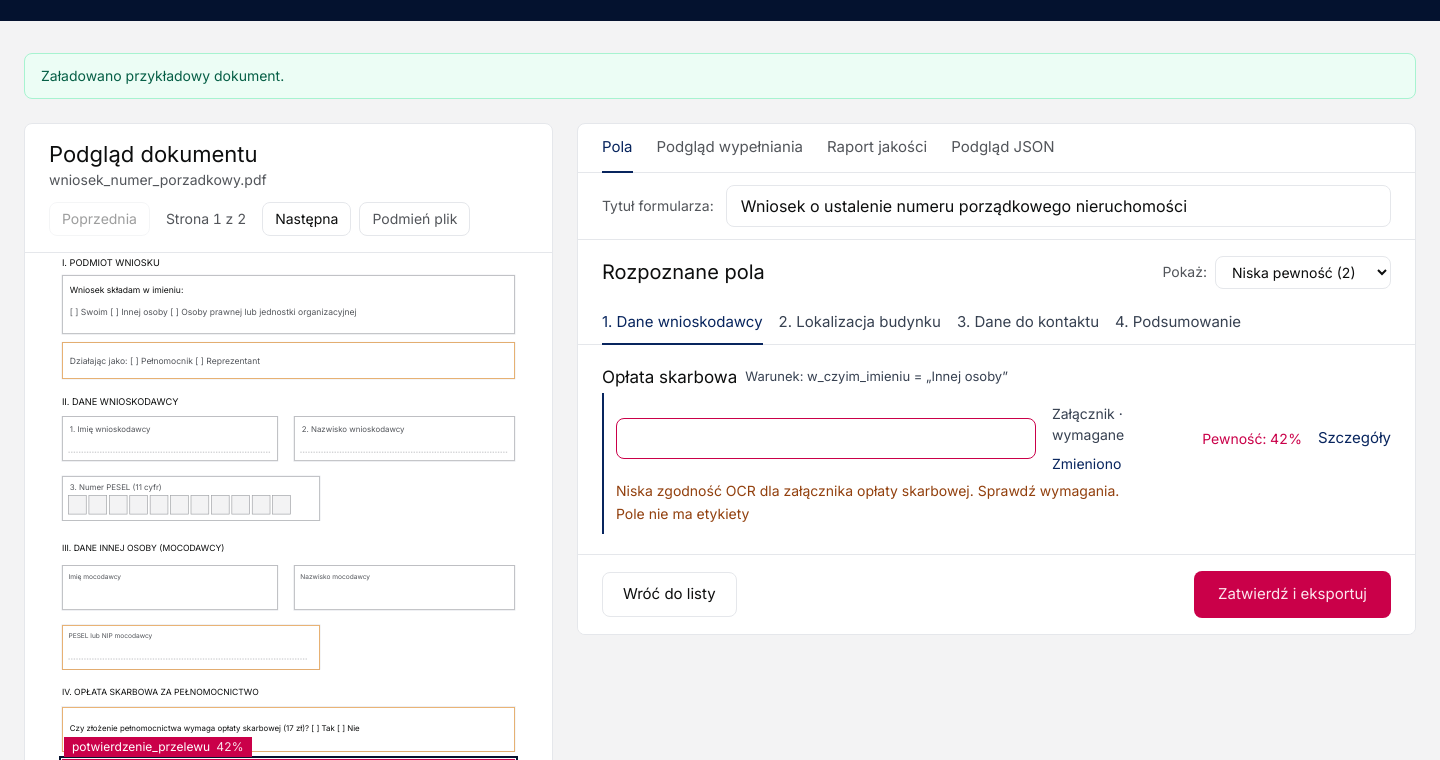
Test: Cyfryzacja formularzy — ścieżka robocza urzędnika › otwiera weryfikację, filtruje niską pewność, podświetla bbox, edytuje pole i zatwierdza
The width and height of the screenshot is (1440, 760).
Earlier steps of the test are not shown.
(page scrolled)
Step 1. Type "Dowód opłaty skarbowej 17 zł" into the field named "Etykieta pola potwierdzenie_przelewu" → (826, 439), box [616,418,1036,459]
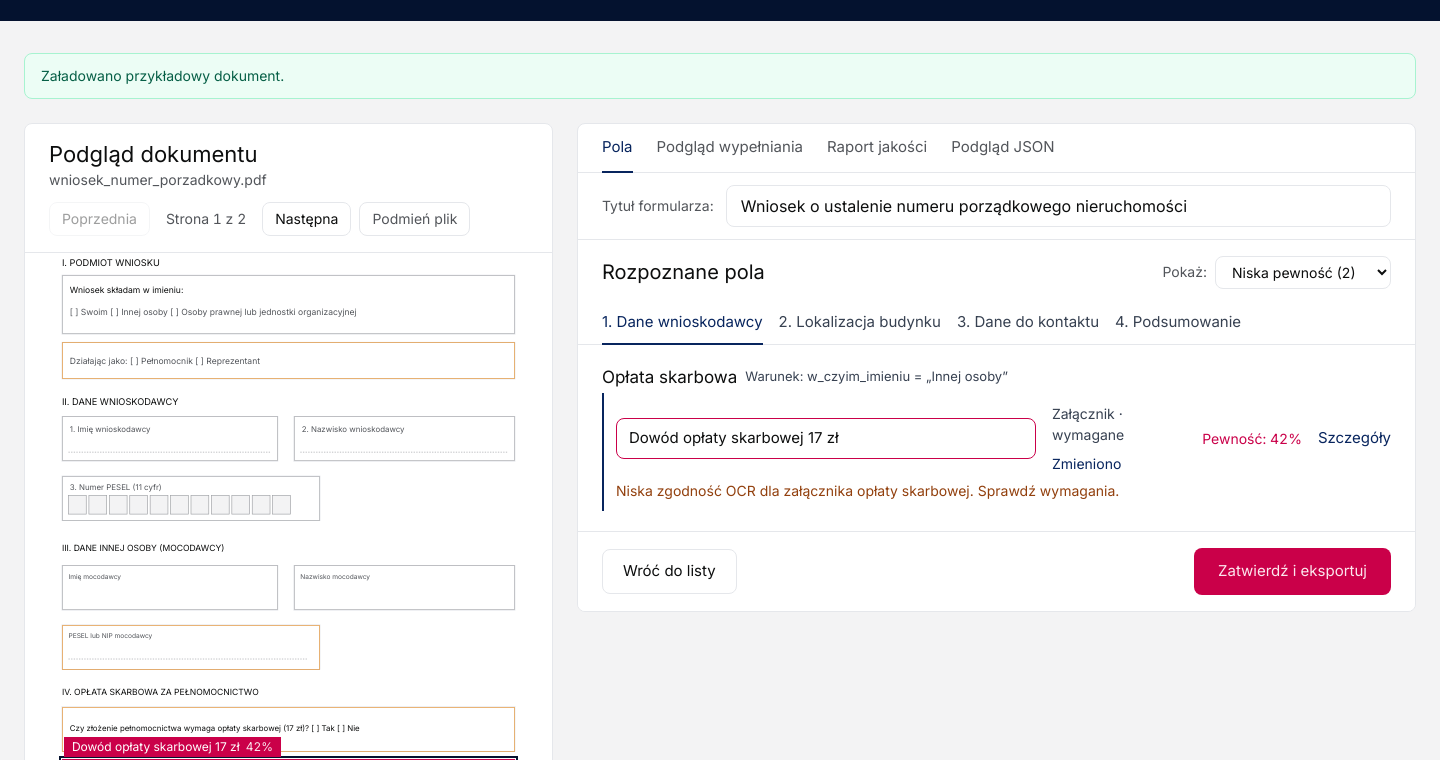
Zatwierdzenie i eksport
Step 2. Click the button with test id "approve-form-button" → (1292, 571), box [1194,548,1391,594]
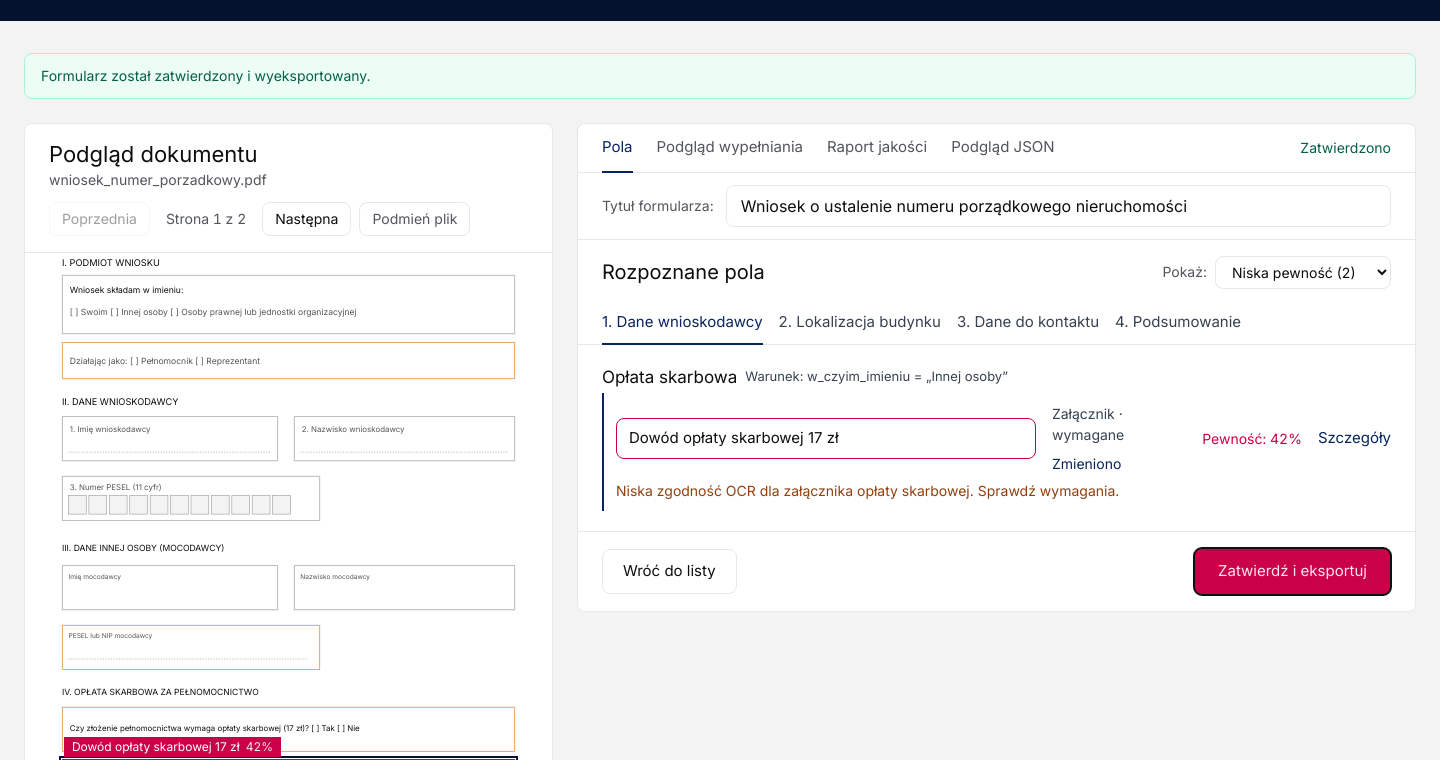
Expected: the text "Zatwierdzono" is shown, [1300,138,1391,158]
Weryfikacja zaktualizowanej etykiety w podglądzie JSON
Step 3. Click the tab "Podgląd JSON" → (1003, 148), box [951,124,1054,172]
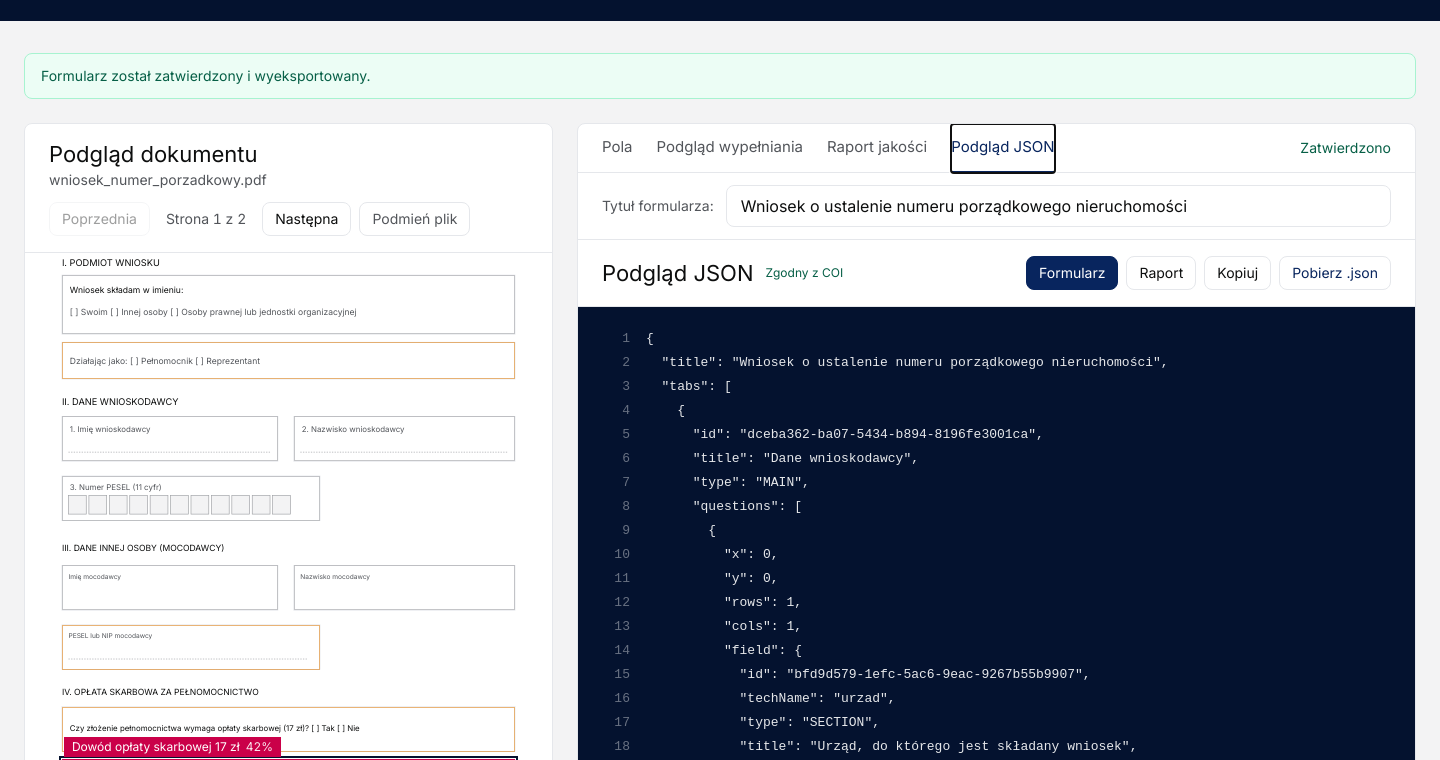
Podgląd wypełniania — dynamiczna widoczność JSONata SHOW + walidacja Zod
Step 4. Click the tab "Podgląd wypełniania" → (730, 148), box [656,124,803,172]
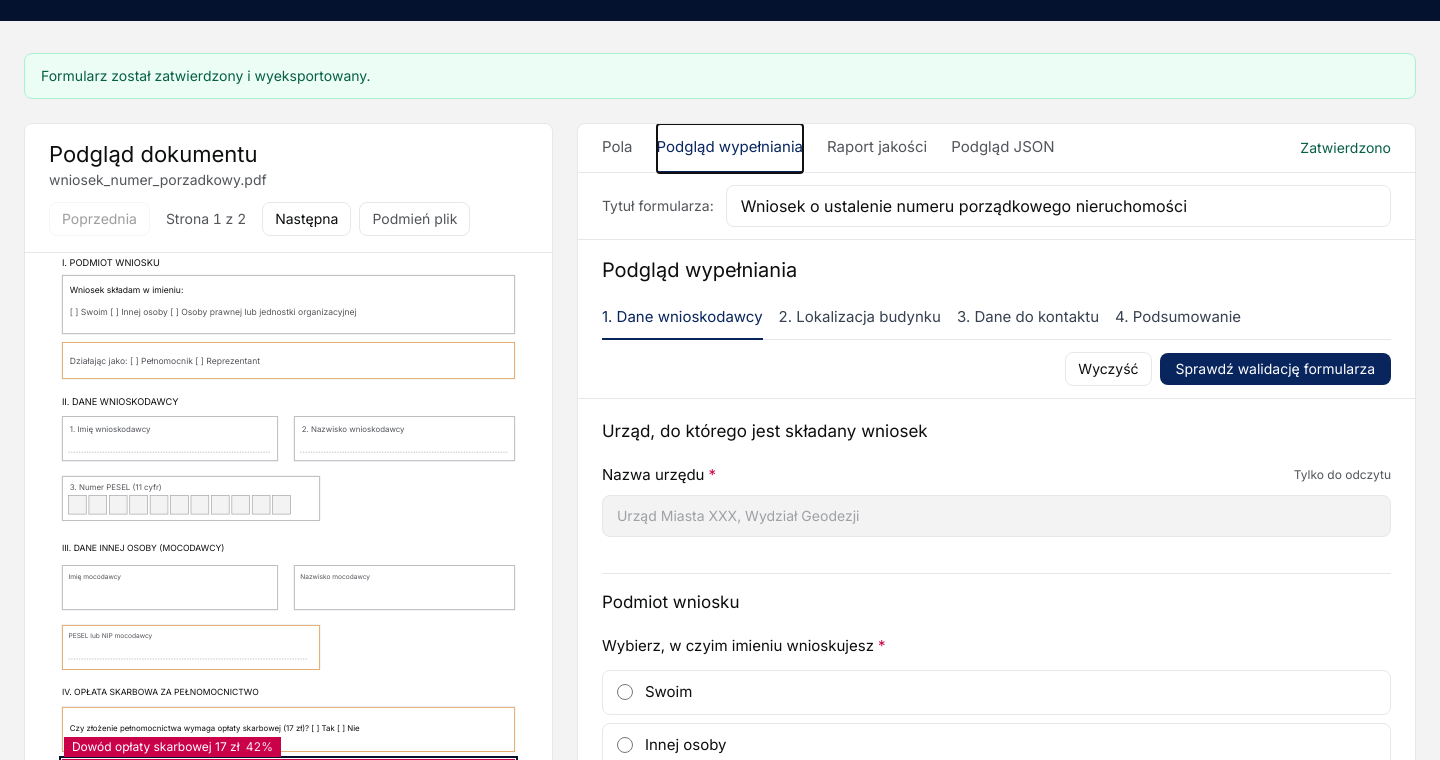
Step 5. Click the radio button labelled "Innej osoby" → (625, 745), box [617,737,633,753]
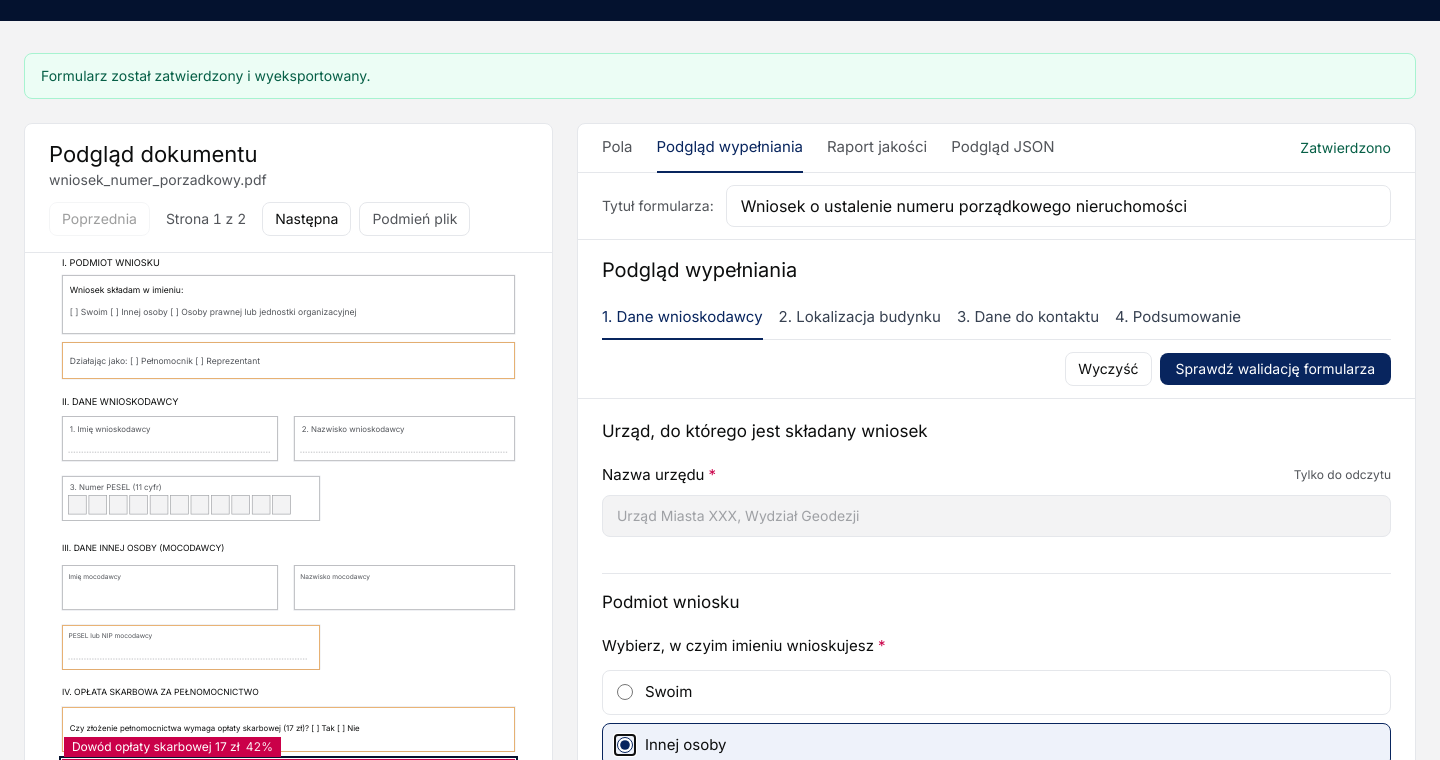
Step 6. Click the button "Sprawdź walidację formularza" → (1275, 369), box [1160,353,1391,385]
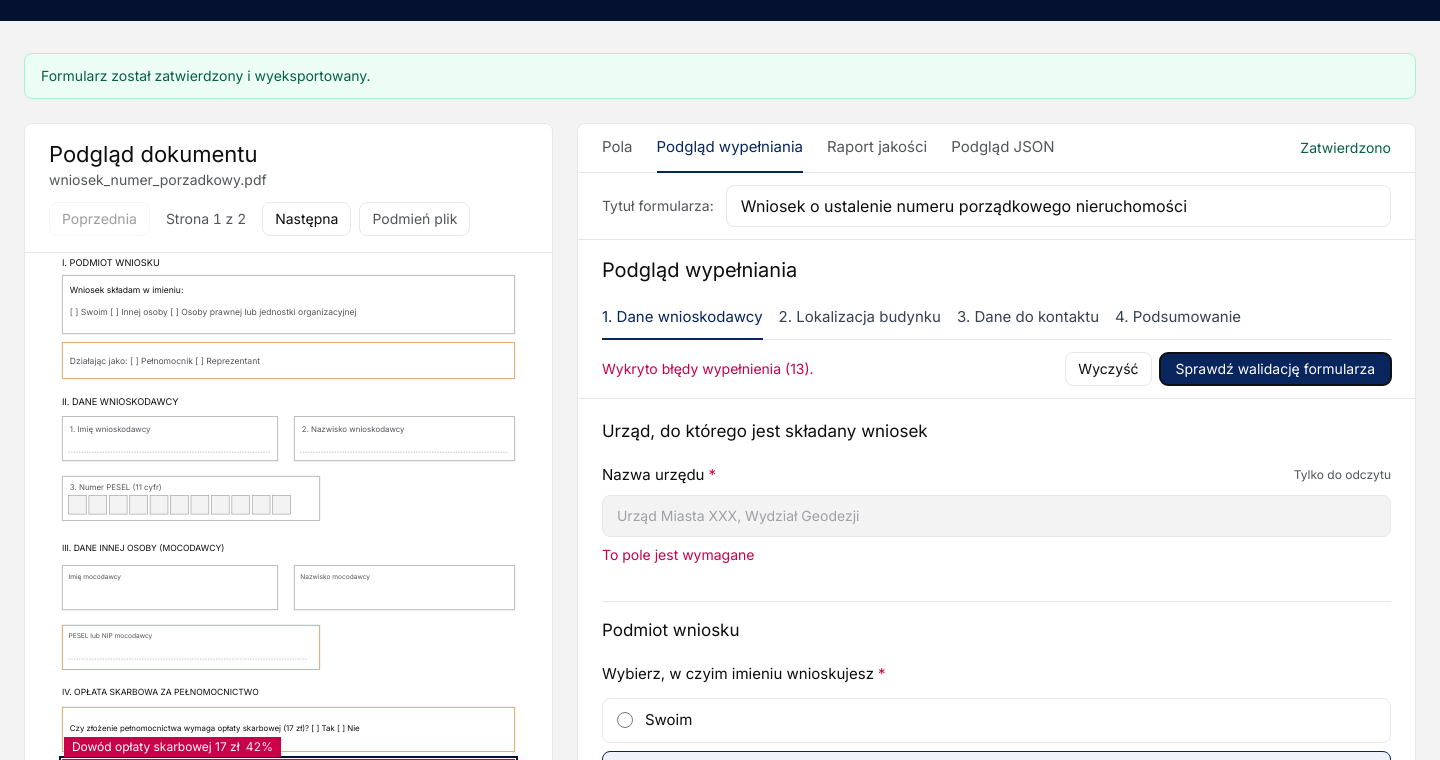
Expected: the text "Wykryto błędy wypełnienia (13)." is shown, [602,360,814,377]
